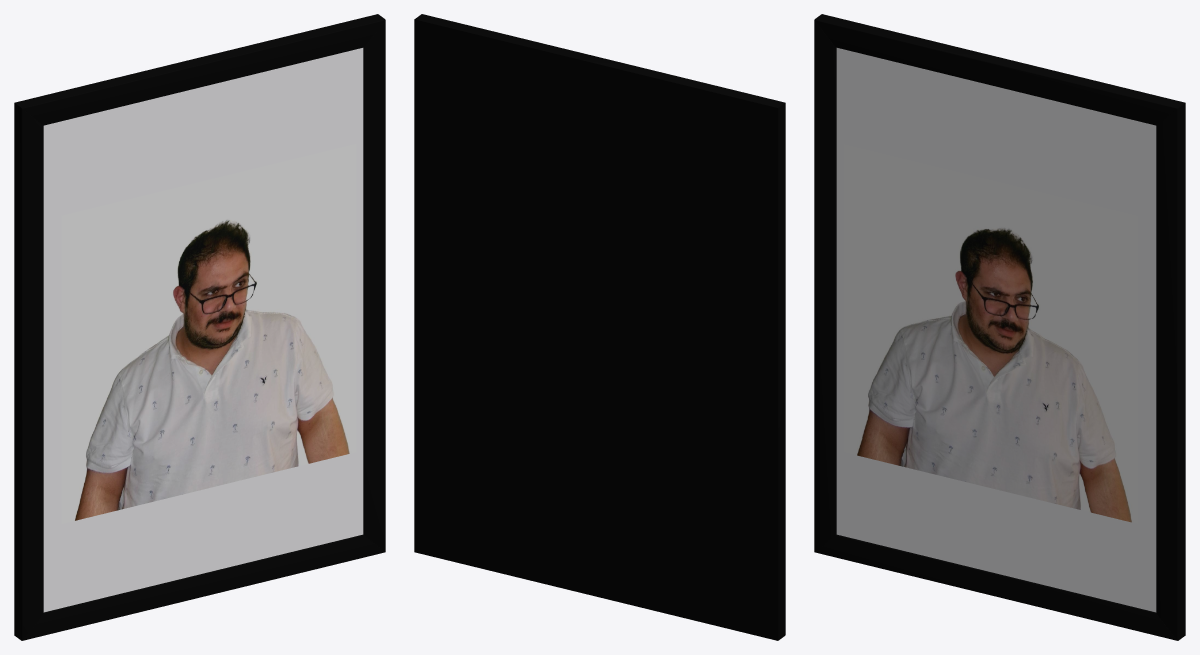
Rendered from AbdSign.fbx.
3 views of the same model, side by side, from view 1: azimuth 30°, elevation 25°; view 2: azimuth 150°, elevation 25°; view 3: azimuth 330°, elevation 25° (orthographic).
Visible parts, largest first — view 1: Box046, zip_-_4; view 2: Box046; view 3: Box046, zip_-_4.
Boxes of the visible parts, x1=… form: Box046: x1=14, y1=14, x2=385, y2=640; zip_-_4: x1=61, y1=144, x2=356, y2=523; Box046: x1=414, y1=14, x2=785, y2=640; Box046: x1=814, y1=14, x2=1185, y2=640; zip_-_4: x1=844, y1=144, x2=1138, y2=523.
Bounding box in the file's own units: 692 × 969 × 41.37.
Materials: 5 (1 with a texture image).
